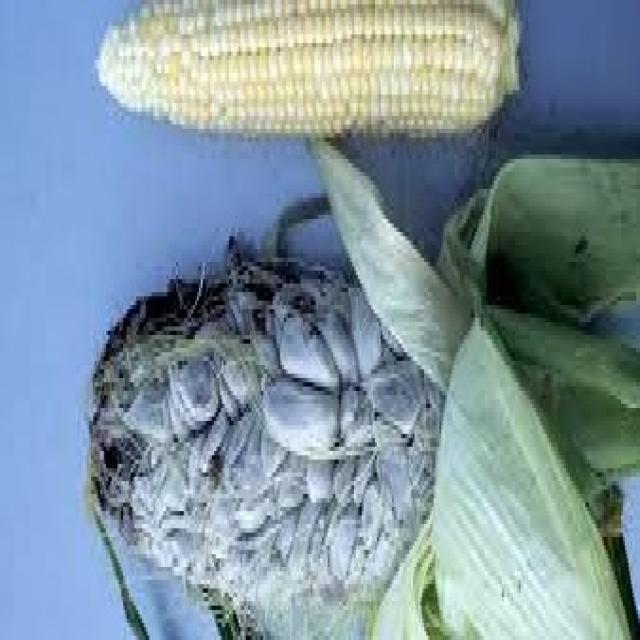Leaf_Scald: (63, 179, 550, 640)
